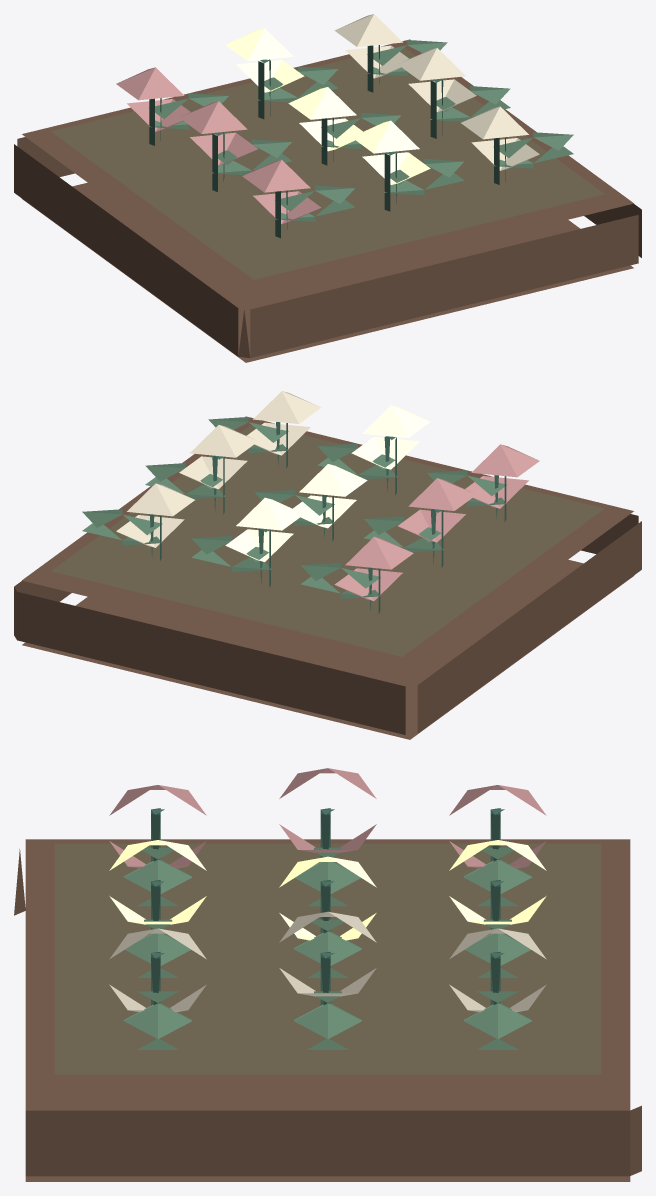
Rendered from flower.glb.
The picture shows the model from 3 angles, top to bottom: view 1: azimuth 30°, elevation 25°; view 2: azimuth 150°, elevation 25°; view 3: azimuth 270°, elevation 25°; orthographic projection. The views are drawn at different scales.
Parts seen in each view (by area): view 1: Planter, Garden soil, Bloom_3, Bloom_7, Bloom_1, Bloom_5, Bloom_0, Bloom_2, Bloom_6, Bloom_4, Bloom_8, Leaf_1 (+9 smaller); view 2: Planter, Garden soil, Bloom_5, Bloom_3, Bloom_1, Bloom_7, Bloom_6, Bloom_8, Bloom_0, Bloom_4, Bloom_2, Leaf_7 (+8 smaller); view 3: Garden soil, Planter, Leaf_2, Leaf_8, Leaf_5, Leaf_6, Leaf_0, Leaf_4, Bloom_1, Bloom_7, Bloom_5, Leaf_3 (+8 smaller).
Boxes of the visible parts, x1,y1,x2,y2 form: Planter: [14, 39, 641, 362]; Garden soil: [51, 46, 604, 279]; Bloom_3: [179, 101, 257, 165]; Bloom_7: [225, 28, 304, 92]; Bloom_1: [351, 120, 430, 184]; Bloom_5: [398, 48, 476, 112]; Bloom_0: [242, 159, 321, 223]; Bloom_2: [461, 106, 539, 170]; Bloom_6: [116, 67, 190, 131]; Bloom_4: [288, 87, 362, 151]; Bloom_8: [334, 14, 409, 78]; Leaf_1: [384, 159, 464, 195]; Planter: [14, 416, 641, 739]; Garden soil: [51, 423, 604, 656]; Bloom_5: [179, 425, 257, 489]; Bloom_3: [398, 478, 476, 542]; Bloom_1: [351, 405, 430, 469]; Bloom_7: [225, 497, 304, 561]; Bloom_6: [334, 536, 413, 600]; Bloom_8: [116, 483, 194, 547]; Bloom_0: [465, 444, 539, 508]; Bloom_4: [293, 464, 367, 528]; Bloom_2: [246, 391, 321, 455]; Leaf_7: [191, 536, 271, 572]; Garden soil: [54, 843, 601, 1074]; Planter: [14, 839, 641, 1181]; Leaf_2: [124, 991, 192, 1049]; Leaf_8: [463, 991, 531, 1049]; Leaf_5: [294, 991, 361, 1049]; Leaf_6: [463, 847, 531, 906]; Leaf_0: [124, 847, 192, 906]; Leaf_4: [294, 919, 361, 977]; Bloom_1: [109, 840, 206, 924]; Bloom_7: [449, 840, 546, 924]; Bloom_5: [279, 911, 376, 996]; Leaf_3: [295, 847, 360, 906].
Size of the model in its own units: 0.85 by 0.32 by 0.85.
